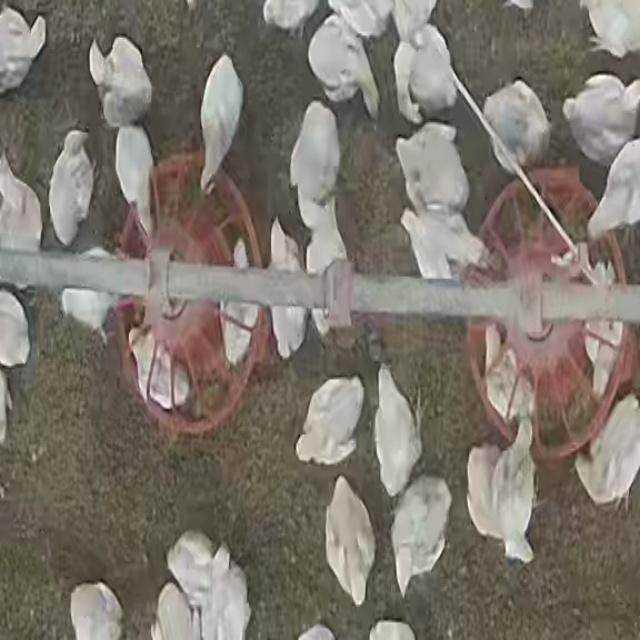chicken: (466, 420, 537, 560), (306, 16, 384, 111), (574, 397, 640, 508), (397, 204, 486, 286), (375, 361, 428, 497), (560, 73, 638, 165), (323, 473, 376, 606), (391, 476, 449, 595), (482, 78, 553, 175), (396, 125, 473, 212), (299, 191, 346, 331), (394, 22, 459, 120), (288, 100, 340, 222), (295, 376, 363, 466), (88, 35, 152, 127), (482, 323, 539, 425), (197, 54, 240, 189), (57, 249, 116, 343), (268, 218, 308, 356), (583, 263, 624, 395), (589, 139, 640, 243), (51, 128, 96, 241), (114, 122, 156, 240), (127, 332, 192, 408), (164, 533, 229, 607), (0, 140, 43, 248), (221, 239, 257, 359), (0, 6, 46, 92), (70, 582, 124, 639), (0, 288, 32, 367)
